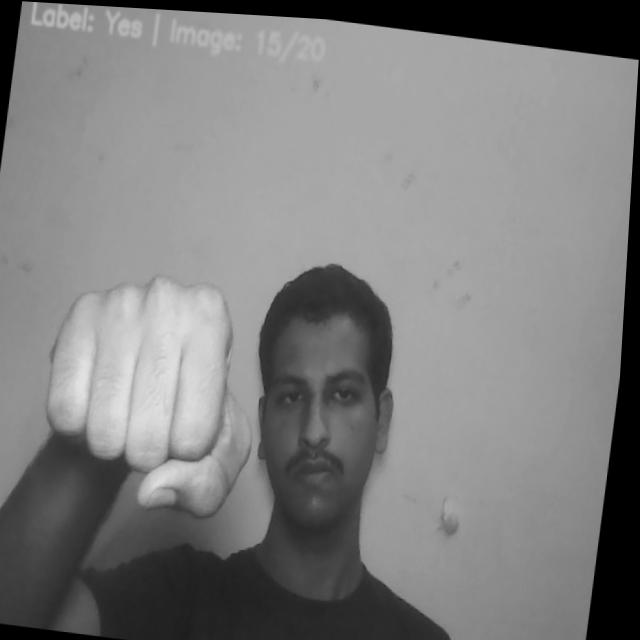Yes: (37, 257, 278, 524)
